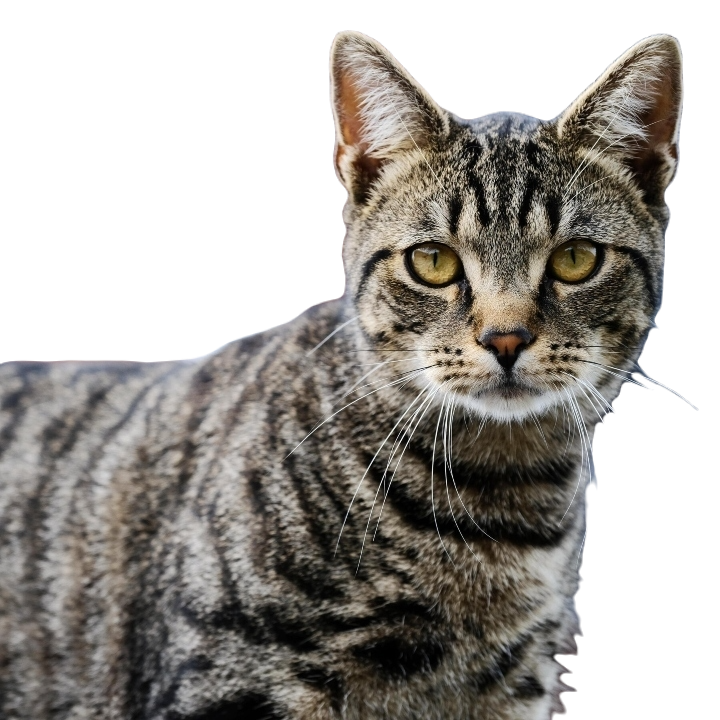Cat: (0, 27, 687, 719)
